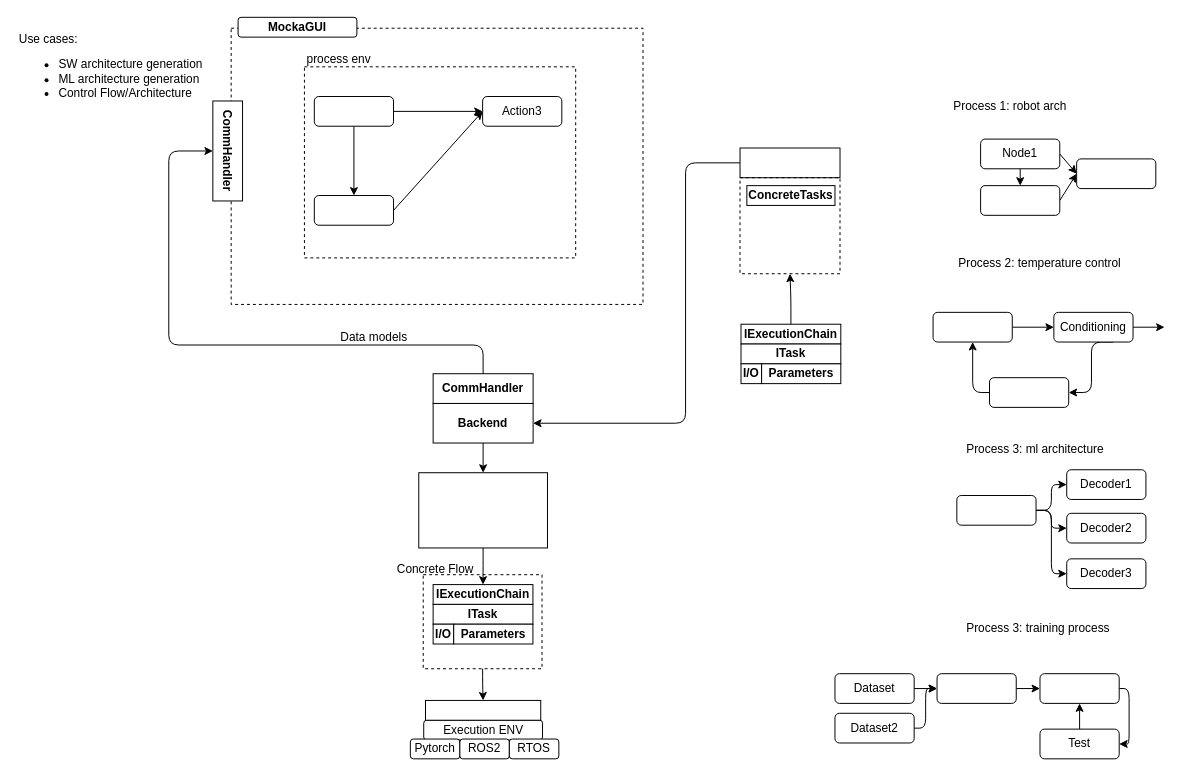
The diagram is 1190 pixels wide and 776 high, and some of its shapes have lost their labels. The shapes that lost their labels are listed below. From the top down, each one's centre as x and y in pixels, then its label:
point (353, 111): Action1
point (789, 162): MockaBlockoDB
point (1116, 173): Node3
point (353, 210): Action2
point (1020, 200): Node2
point (972, 326): Compute error
point (1029, 392): read temperature
point (482, 510): execution graph - input -outputs - dependencies -task specific params
point (996, 510): Transformer
point (976, 688): Shuffle Datasets
point (1079, 688): Train
point (483, 709): Execution Manager
